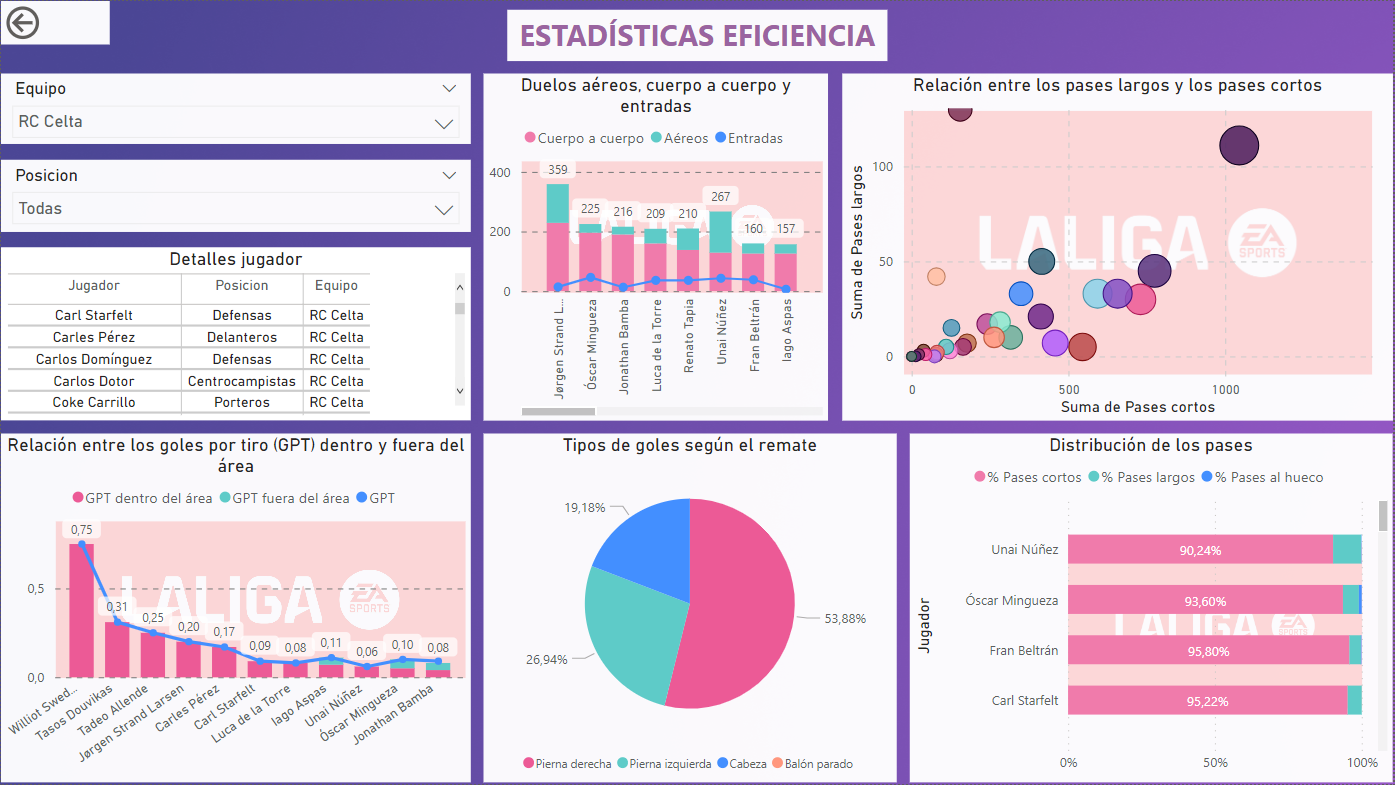

Layout of this report page (visuals, bound fields, positions):
{"tool":"powerbi","page":{"name":"EFICIENCIA","canvas":[1280,720],"ordinal":1},"visuals":[{"type":"slicer","fields":{"Values":["ID_player_team.Equipo"]},"box":[0,66.5,431.8,65.1],"z":0},{"type":"slicer","fields":{"Values":["ID_player_team.Posicion"]},"box":[0,145.9,431.8,66.3],"z":1000},{"type":"tableEx","title":"Detalles jugador","fields":{"Values":["ID_player_team.Jugador","ID_player_team.Posicion","ID_player_team.Equipo"]},"box":[0,226.7,431.8,159.2],"z":2000},{"type":"textbox","box":[465.5,8.4,349.7,47],"z":3000},{"type":"scatterChart","title":"Relación entre los pases largos y los pases cortos","fields":{"Series":["eficiencia_stats.Jugador"],"X":["Sum(eficiencia_stats.Pases cortos)"],"Size":["Sum(eficiencia_stats.Pases)"],"Y":["Sum(eficiencia_stats.Pases largos)"]},"box":[773.1,66.3,506.5,319.6],"z":4000},{"type":"hundredPercentStackedBarChart","title":"Distribución de los pases","fields":{"Y":["Sum(eficiencia_stats.Pases cortos)","Sum(eficiencia_stats.Pases largos)","Sum(eficiencia_stats.Pases al hueco)"],"Category":["eficiencia_stats.Jugador"]},"box":[835.8,398,443.8,320.8],"z":5000},{"type":"lineStackedColumnComboChart","title":"Duelos aéreos, cuerpo a cuerpo y entradas","fields":{"Y":["Sum(eficiencia_stats.Duelos cuerpo a cuerpo)","Sum(eficiencia_stats.Duelos aéreos)"],"Y2":["Sum(eficiencia_stats.Entradas)"],"Category":["eficiencia_stats.Jugador"]},"box":[443.8,66.3,317.2,319.6],"z":6000},{"type":"lineStackedColumnComboChart","title":"Relación entre los goles por tiro (GPT) dentro y fuera del área","fields":{"Category":["eficiencia_stats.Jugador"],"Y":["Sum(eficiencia_stats.Goles por tiro dentro del área)","Sum(eficiencia_stats.Goles por tiro fuera del área)"],"Y2":["Sum(eficiencia_stats.Goles por tiro)"]},"box":[0,398.2,432,321],"z":7000},{"type":"actionButton","box":[0,0,100,40],"z":8000},{"type":"pieChart","title":"Tipos de goles según el remate","fields":{"Y":["Sum(eficiencia_stats.Goles con la pierna derecha)","Sum(eficiencia_stats.Goles con la pierna izquierda)","Sum(eficiencia_stats.Goles de cabeza)","Sum(eficiencia_stats.Goles a balón parado)"]},"box":[443.8,398,379.9,320.8],"z":9000}]}

Visuals, with their boxes in screenshot pixels (x1, y1, x2, y2), scaled from the page's 1280x720 canvas onto the 1395x785 screenshot:
slicer - ID_player_team.Equipo: detection(0, 73, 471, 143)
slicer - ID_player_team.Posicion: detection(0, 159, 471, 231)
"Detalles jugador" tableEx: detection(0, 247, 471, 421)
textbox: detection(507, 9, 888, 60)
"Relación entre los pases largos y los pases cortos" scatterChart: detection(843, 72, 1394, 421)
"Distribución de los pases" hundredPercentStackedBarChart: detection(911, 434, 1394, 784)
"Duelos aéreos, cuerpo a cuerpo y entradas" lineStackedColumnComboChart: detection(484, 72, 829, 421)
"Relación entre los goles por tiro (GPT) dentro y fuera del área" lineStackedColumnComboChart: detection(0, 434, 471, 784)
actionButton: detection(0, 0, 109, 44)
"Tipos de goles según el remate" pieChart: detection(484, 434, 898, 784)
